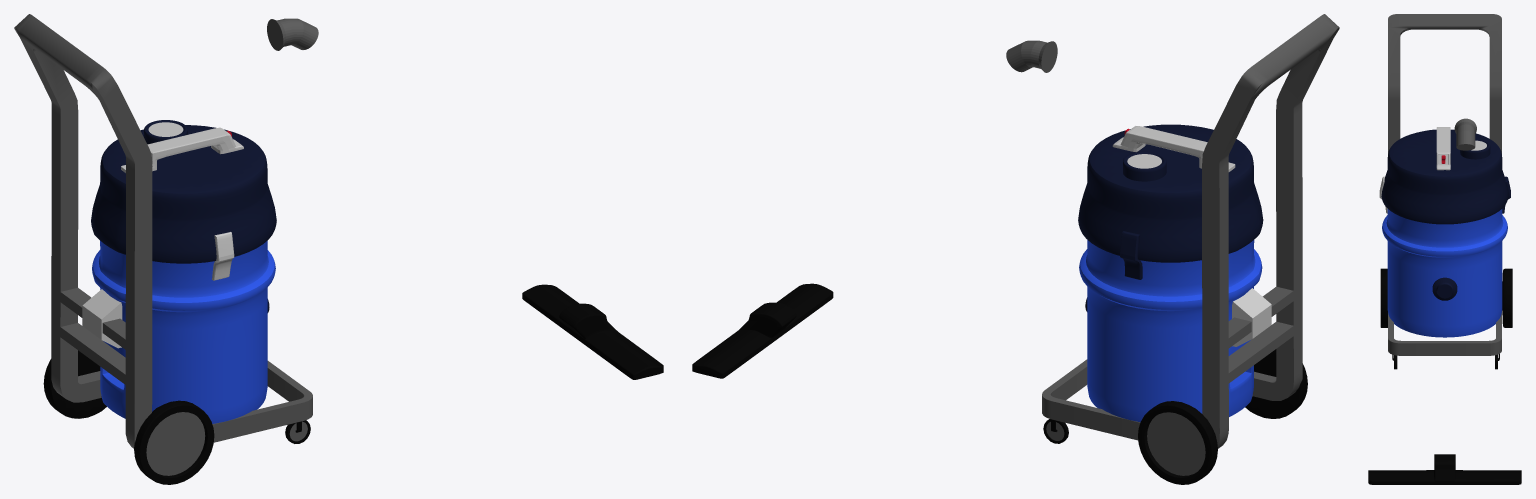
Rendered from Stofzuiger.fbx.
3 renders of one model, left to right at view 1: azimuth 30°, elevation 25°; view 2: azimuth 150°, elevation 25°; view 3: azimuth 270°, elevation 25°, orthographic. The views are drawn at different scales.
Parts seen in each view (by area): view 1: Cube.008, Cylinder.010, Cylinder.005, Cube.010, Cylinder.002, Cylinder.017, Cube.009, Cylinder.016, Cylinder.007, Cube.012, Cube.013; view 2: Cube.008, Cylinder.010, Cylinder.005, Cube.010, Cylinder.001, Cylinder.016, Cube.009, Cylinder.017, Cylinder.007, Cube.012, Cube.011, Cylinder.011; view 3: Cylinder.010, Cylinder.005, Cube.008, Cube.010, Cylinder.016, Cube.009, Cylinder.007, Cylinder.012, Cylinder.017, Cylinder.011.
Boxes of the visible parts, <box> form: Cube.008: <box>14,14,312,448</box>; Cylinder.010: <box>92,240,275,423</box>; Cylinder.005: <box>91,125,276,263</box>; Cube.010: <box>522,284,663,379</box>; Cylinder.002: <box>146,412,205,475</box>; Cylinder.017: <box>134,400,214,484</box>; Cube.009: <box>121,127,243,172</box>; Cylinder.016: <box>43,350,106,418</box>; Cylinder.007: <box>267,18,318,50</box>; Cube.012: <box>82,289,122,348</box>; Cube.013: <box>212,232,234,280</box>; Cube.008: <box>1042,14,1339,448</box>; Cylinder.010: <box>1079,240,1262,422</box>; Cylinder.005: <box>1078,124,1263,262</box>; Cube.010: <box>692,283,833,378</box>; Cylinder.001: <box>1147,412,1205,475</box>; Cylinder.016: <box>1138,401,1217,484</box>; Cube.009: <box>1112,126,1235,171</box>; Cylinder.017: <box>1245,349,1307,418</box>; Cylinder.007: <box>1006,40,1057,72</box>; Cube.012: <box>1232,288,1271,346</box>; Cube.011: <box>1120,231,1142,279</box>; Cylinder.011: <box>1123,151,1166,181</box>; Cylinder.010: <box>1382,209,1507,337</box>; Cylinder.005: <box>1381,129,1508,224</box>; Cube.008: <box>1388,14,1501,355</box>; Cube.010: <box>1368,454,1521,484</box>; Cylinder.016: <box>1502,268,1512,327</box>; Cube.009: <box>1436,127,1450,170</box>; Cylinder.007: <box>1454,118,1476,150</box>; Cylinder.012: <box>1432,277,1457,300</box>; Cylinder.017: <box>1380,268,1387,327</box>; Cylinder.011: <box>1460,139,1490,159</box>.
Size of the model in its own units: 761 by 552 by 265.
